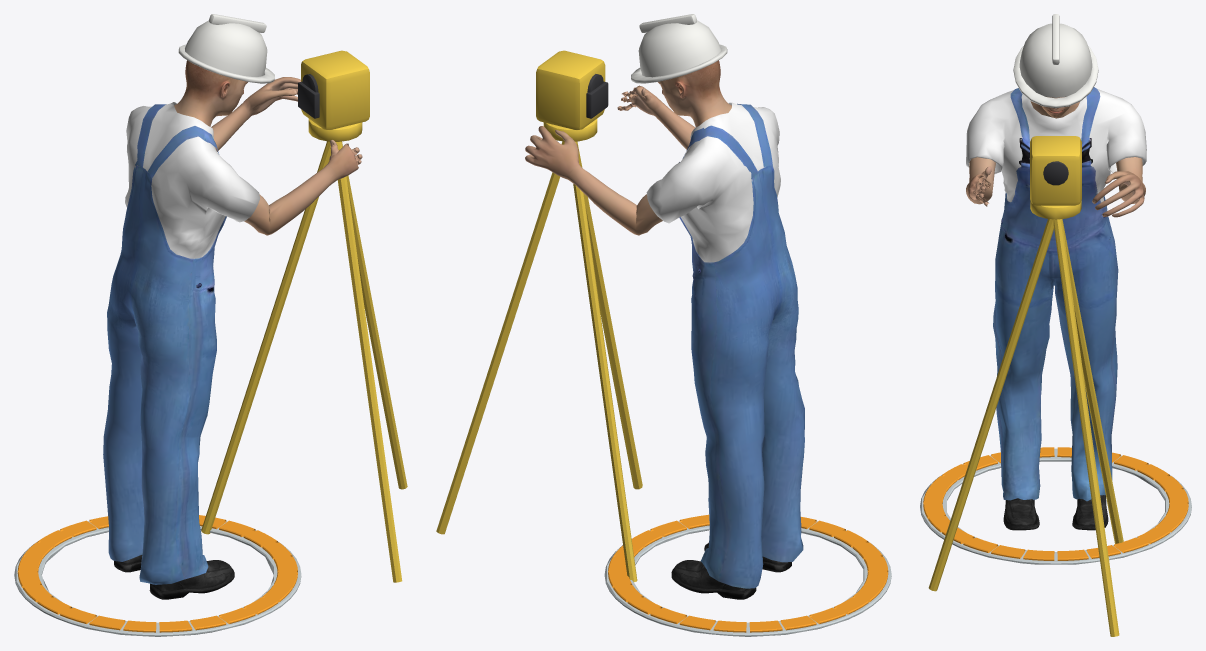
File: MDO-TEC-005_lod1.glb
The picture shows the model from 3 angles, left to right: view 1: azimuth 30°, elevation 25°; view 2: azimuth 150°, elevation 25°; view 3: azimuth 270°, elevation 25°; orthographic projection. The views are drawn at different scales.
Visible parts, largest first — view 1: MDO-TEC-005_pessoa_male_worksuit01, MDO-TEC-005_pessoa, MDO-TEC-005_ferX_estacao, MDO-TEC-005_ferX_perna2, MDO-TEC-005_ferX_perna1, MDO-TEC-005_capacete, MDO-TEC-005_anel_fundo, MDO-TEC-005_ferX_perna0, MDO-TEC-005_pessoa_shoes04, MDO-TEC-005_ferX_prato, MDO-TEC-005_capacete_aba, MDO-TEC-005_ferX_visor; view 2: MDO-TEC-005_pessoa_male_worksuit01, MDO-TEC-005_pessoa, MDO-TEC-005_ferX_estacao, MDO-TEC-005_ferX_perna1, MDO-TEC-005_ferX_perna0, MDO-TEC-005_capacete, MDO-TEC-005_anel_fundo, MDO-TEC-005_ferX_perna2, MDO-TEC-005_pessoa_shoes04, MDO-TEC-005_capacete_aba; view 3: MDO-TEC-005_pessoa_male_worksuit01, MDO-TEC-005_ferX_perna0, MDO-TEC-005_capacete, MDO-TEC-005_ferX_perna2, MDO-TEC-005_pessoa, MDO-TEC-005_ferX_estacao, MDO-TEC-005_anel_fundo, MDO-TEC-005_ferX_perna1, MDO-TEC-005_pessoa_shoes04, MDO-TEC-005_capacete_aba, MDO-TEC-005_ferX_prato, MDO-TEC-005_ferX_luneta (+1 smaller).
Part boxes in pixels (box(x1,y1,x2,y2)): MDO-TEC-005_pessoa_male_worksuit01: box(103, 102, 259, 584); MDO-TEC-005_pessoa: box(174, 60, 362, 235); MDO-TEC-005_ferX_estacao: box(301, 50, 369, 130); MDO-TEC-005_ferX_perna2: box(335, 141, 402, 582); MDO-TEC-005_ferX_perna1: box(201, 141, 331, 534); MDO-TEC-005_capacete: box(185, 20, 267, 76); MDO-TEC-005_anel_fundo: box(14, 521, 301, 636); MDO-TEC-005_ferX_perna0: box(341, 142, 407, 489); MDO-TEC-005_pessoa_shoes04: box(114, 555, 234, 599); MDO-TEC-005_ferX_prato: box(308, 118, 362, 141); MDO-TEC-005_capacete_aba: box(178, 44, 274, 83); MDO-TEC-005_ferX_visor: box(298, 81, 319, 118); MDO-TEC-005_pessoa_male_worksuit01: box(646, 102, 804, 588); MDO-TEC-005_pessoa: box(525, 60, 731, 235); MDO-TEC-005_ferX_estacao: box(536, 50, 605, 130); MDO-TEC-005_ferX_perna1: box(573, 141, 637, 582); MDO-TEC-005_ferX_perna0: box(436, 141, 564, 534); MDO-TEC-005_capacete: box(638, 20, 721, 77); MDO-TEC-005_anel_fundo: box(604, 521, 891, 636); MDO-TEC-005_ferX_perna2: box(577, 142, 642, 489); MDO-TEC-005_pessoa_shoes04: box(671, 542, 791, 599); MDO-TEC-005_capacete_aba: box(631, 44, 727, 83); MDO-TEC-005_pessoa_male_worksuit01: box(966, 87, 1146, 501); MDO-TEC-005_ferX_perna0: box(1053, 219, 1119, 636); MDO-TEC-005_capacete: box(1019, 23, 1092, 97); MDO-TEC-005_ferX_perna2: box(928, 219, 1053, 591); MDO-TEC-005_pessoa: box(966, 96, 1145, 217); MDO-TEC-005_ferX_estacao: box(1030, 136, 1081, 205); MDO-TEC-005_anel_fundo: box(920, 448, 1191, 564); MDO-TEC-005_ferX_perna1: box(1062, 219, 1123, 543); MDO-TEC-005_pessoa_shoes04: box(1003, 495, 1108, 530); MDO-TEC-005_capacete_aba: box(1013, 46, 1098, 108); MDO-TEC-005_ferX_prato: box(1030, 200, 1081, 219); MDO-TEC-005_ferX_luneta: box(1043, 161, 1068, 185).
Bounding box in the file's own units: 1.37 × 1.78 × 0.84.
Materials: 10 (5 with a texture image).
